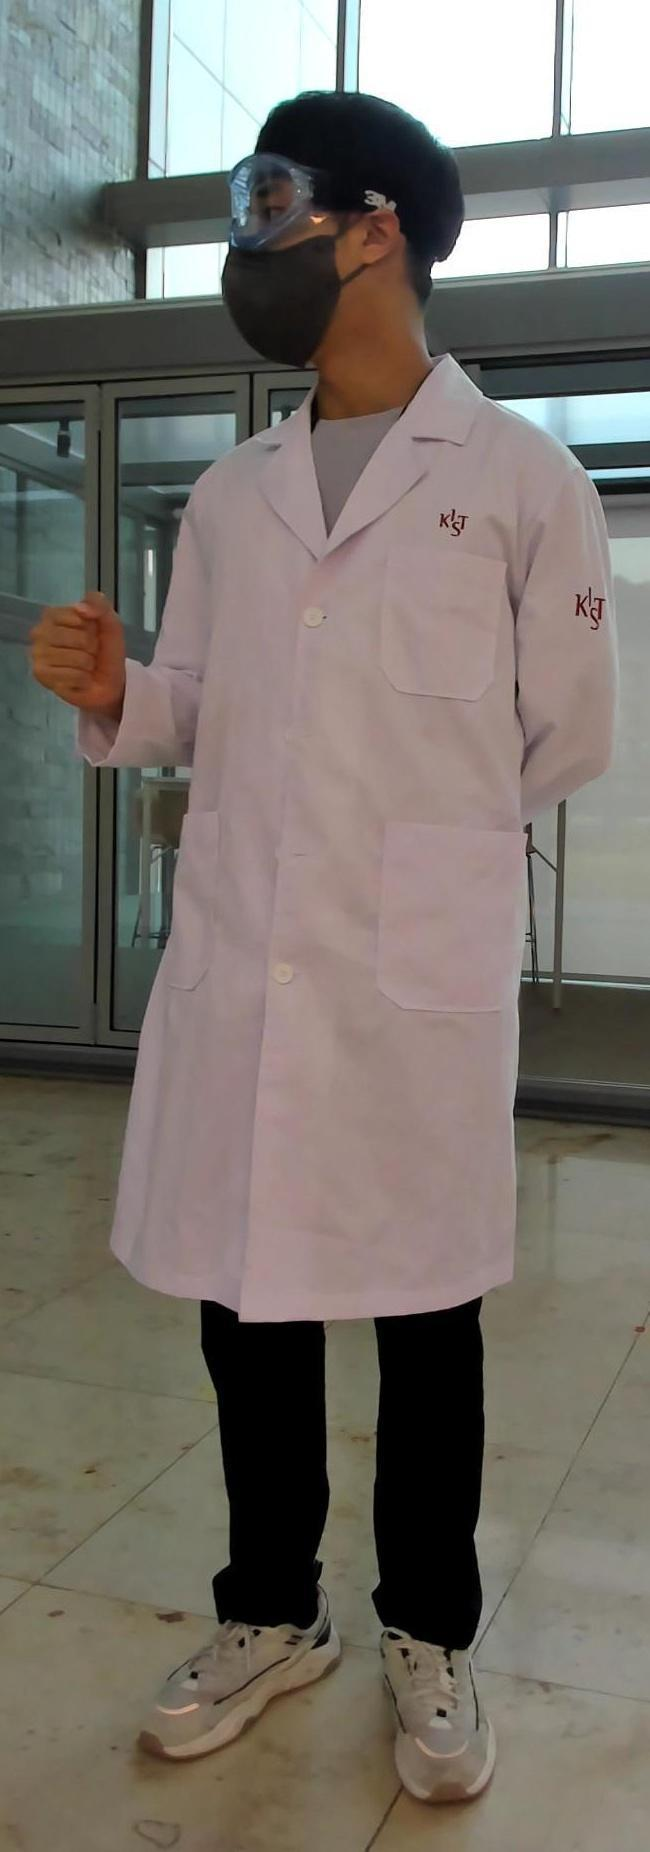lab_coat: (136, 411, 631, 1296)
